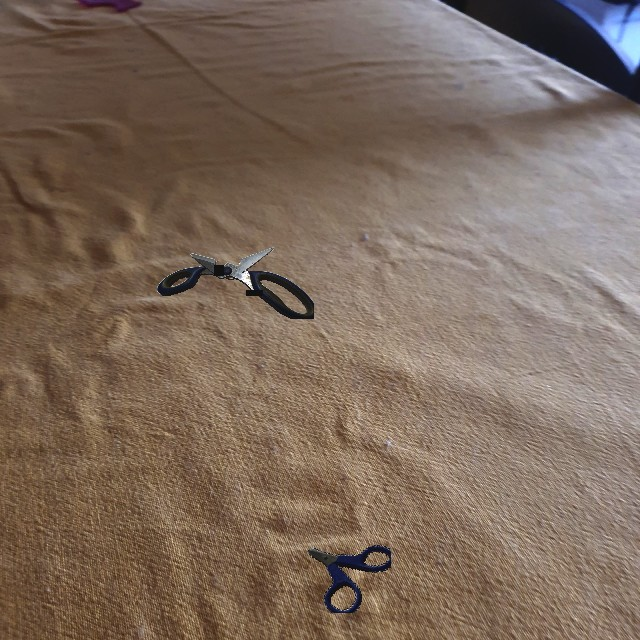scissors: (157, 247, 314, 319), (307, 545, 391, 613)
